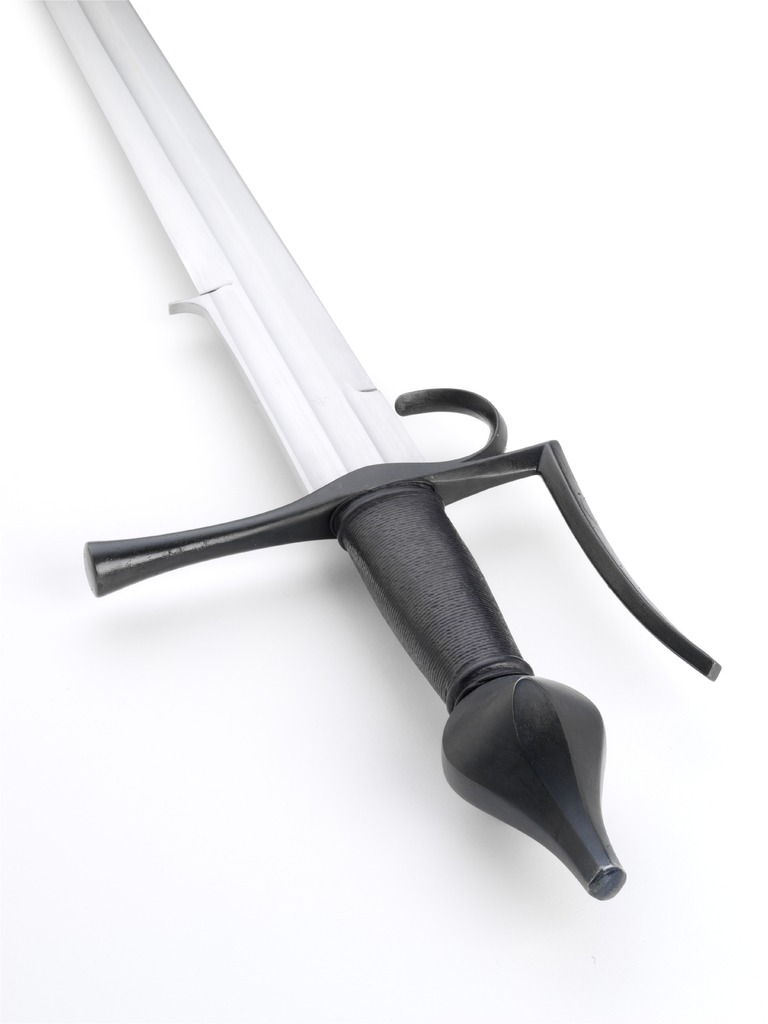sword: (63, 50, 696, 881)
